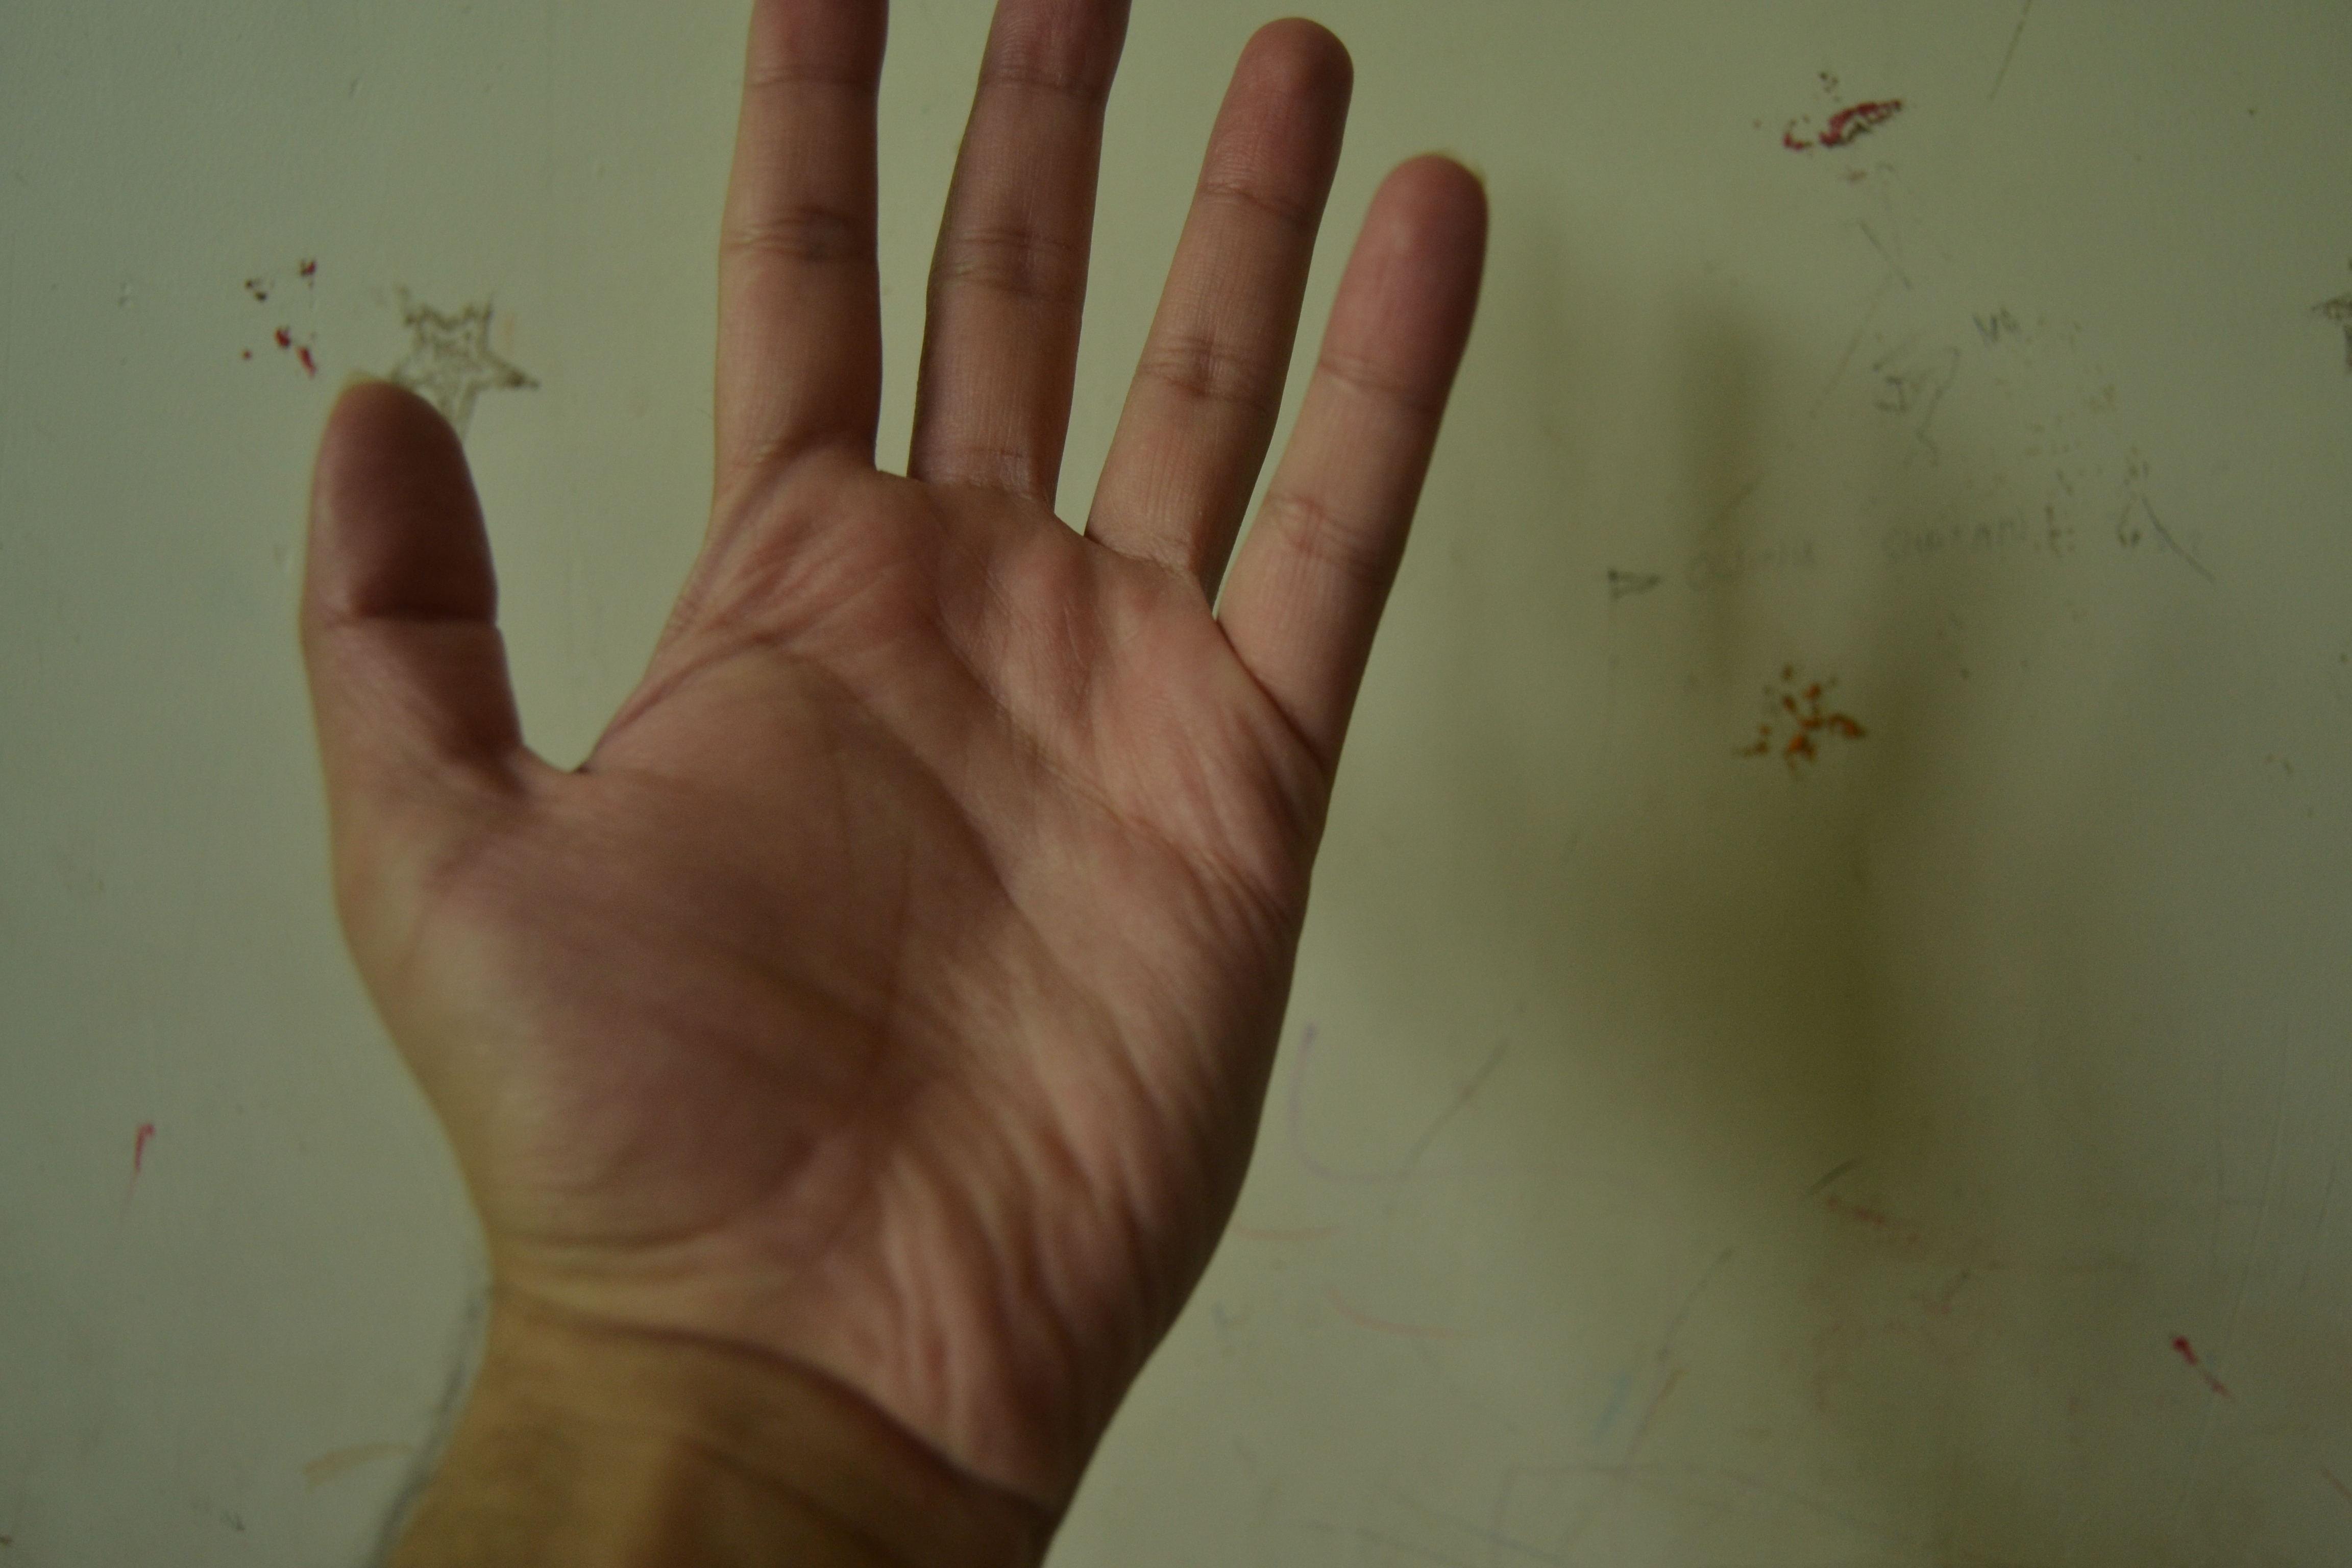move: (201, 9, 1505, 1367)
